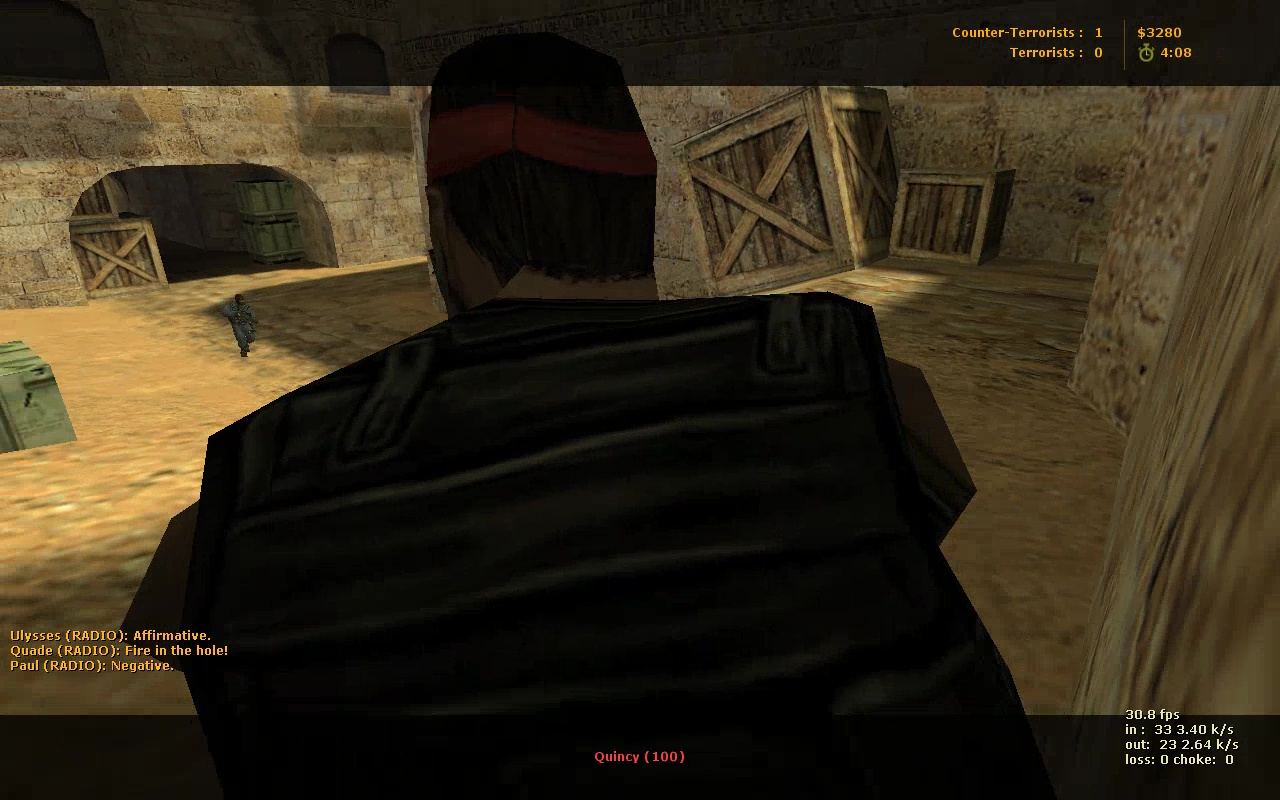ct: (224, 292, 263, 359)
